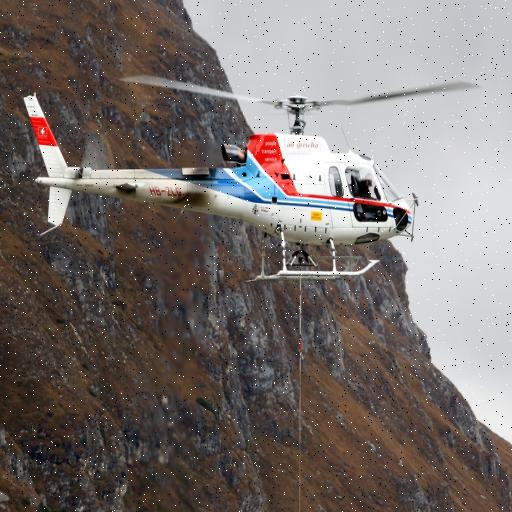helicopter: (22, 78, 481, 273)
